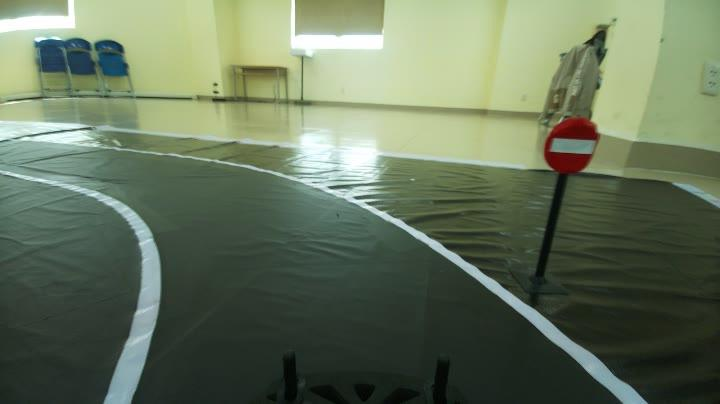no_entry: (537, 115, 606, 184)
